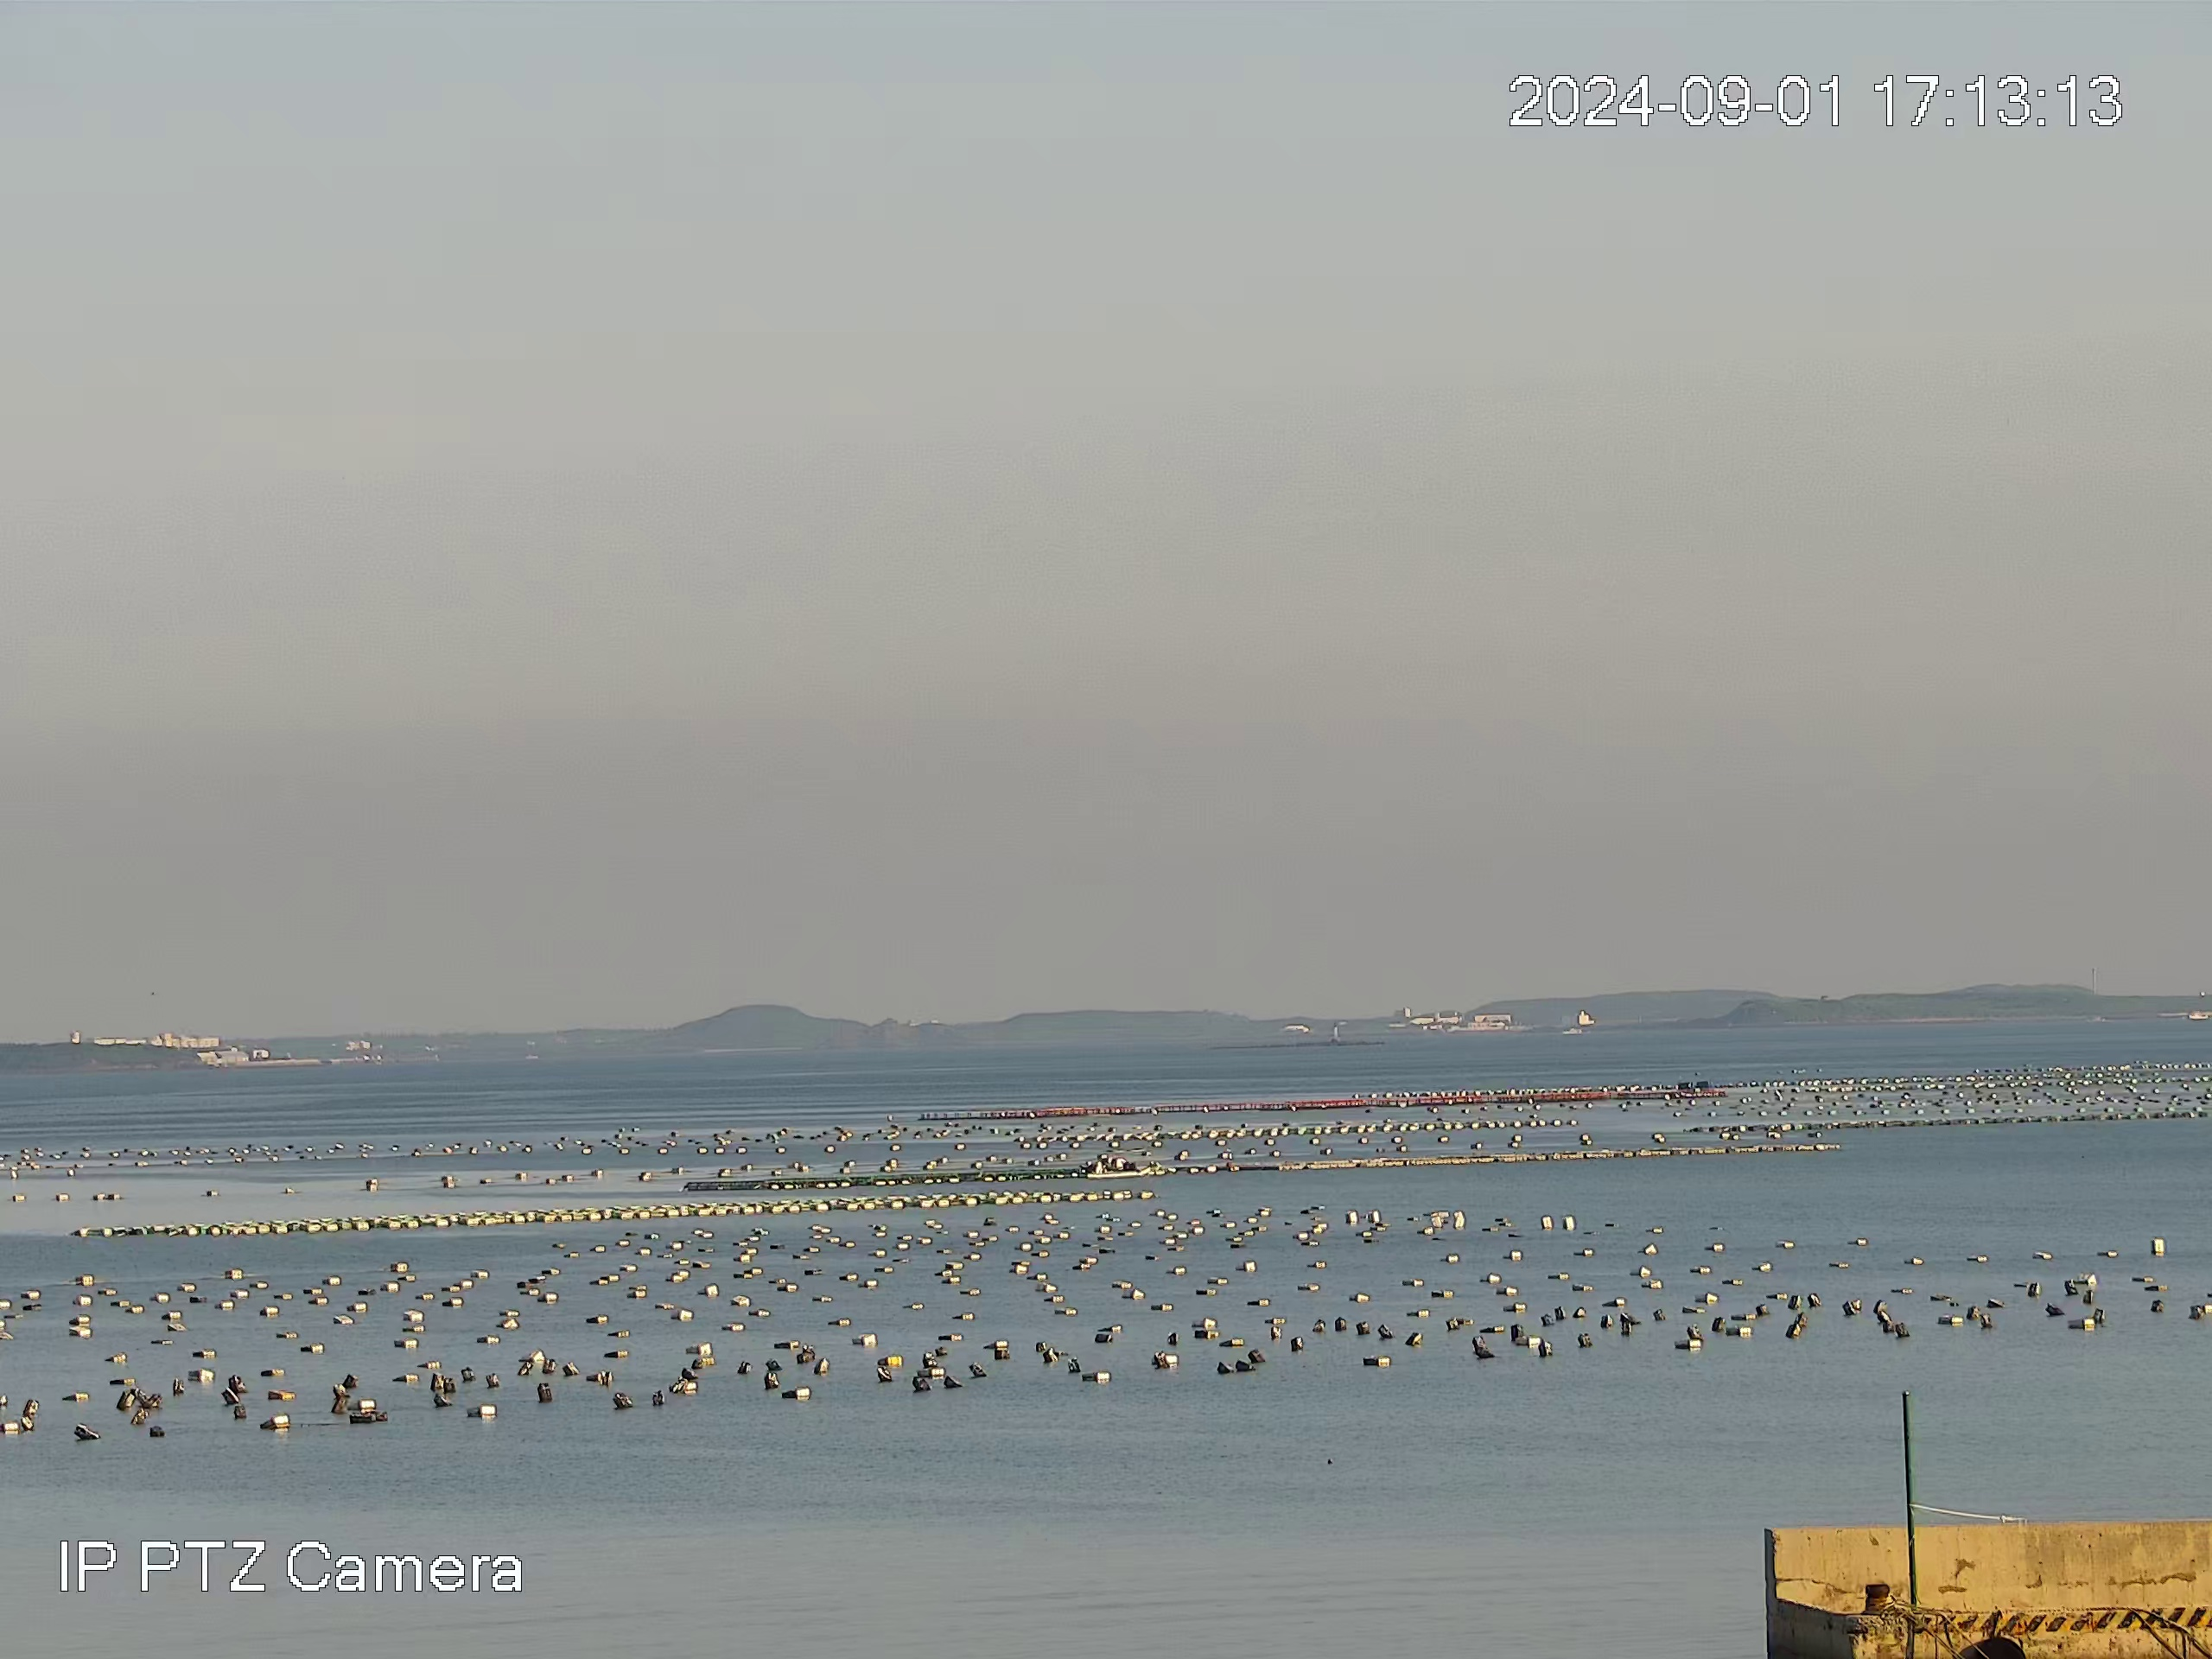boat: (1087, 1154, 1153, 1176)
